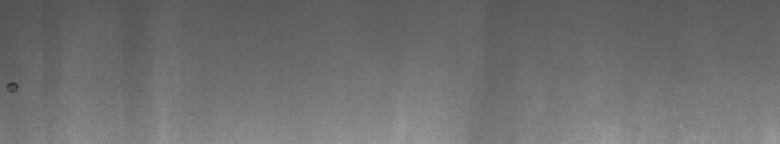fi: (4, 76, 20, 100)
